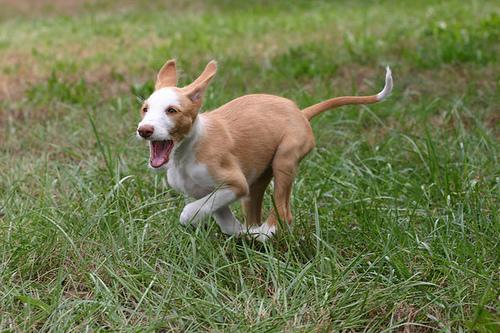Ibizan_hound: (135, 57, 394, 241)
